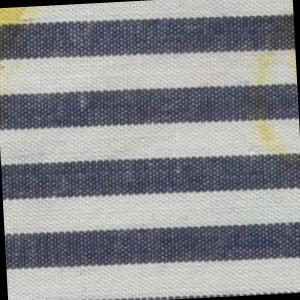Stain: (247, 10, 300, 174), (1, 6, 48, 91)
